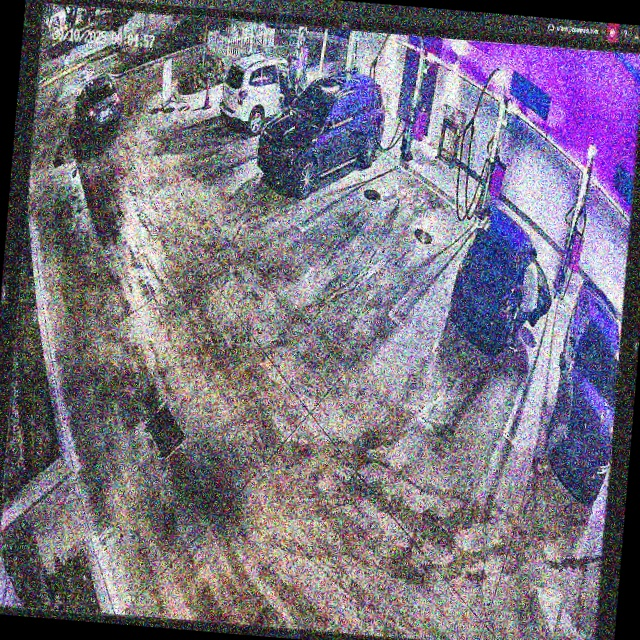Car: (255, 60, 389, 201), (449, 203, 556, 358)
